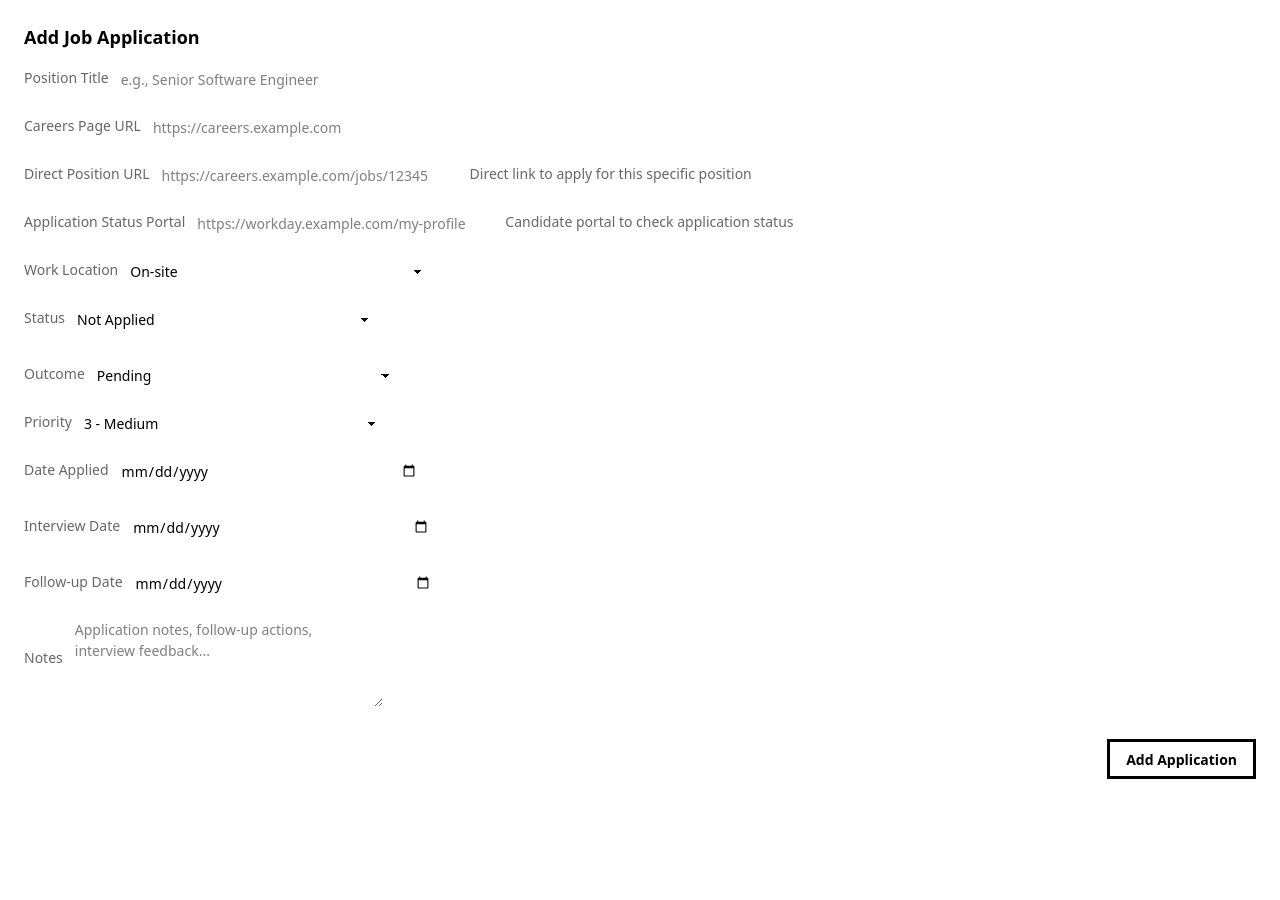
Test: ApplicationForm › Loading State › shows loading state during submission
Click the button "Add Application" at (1182, 759), box [1107,739,1256,779]
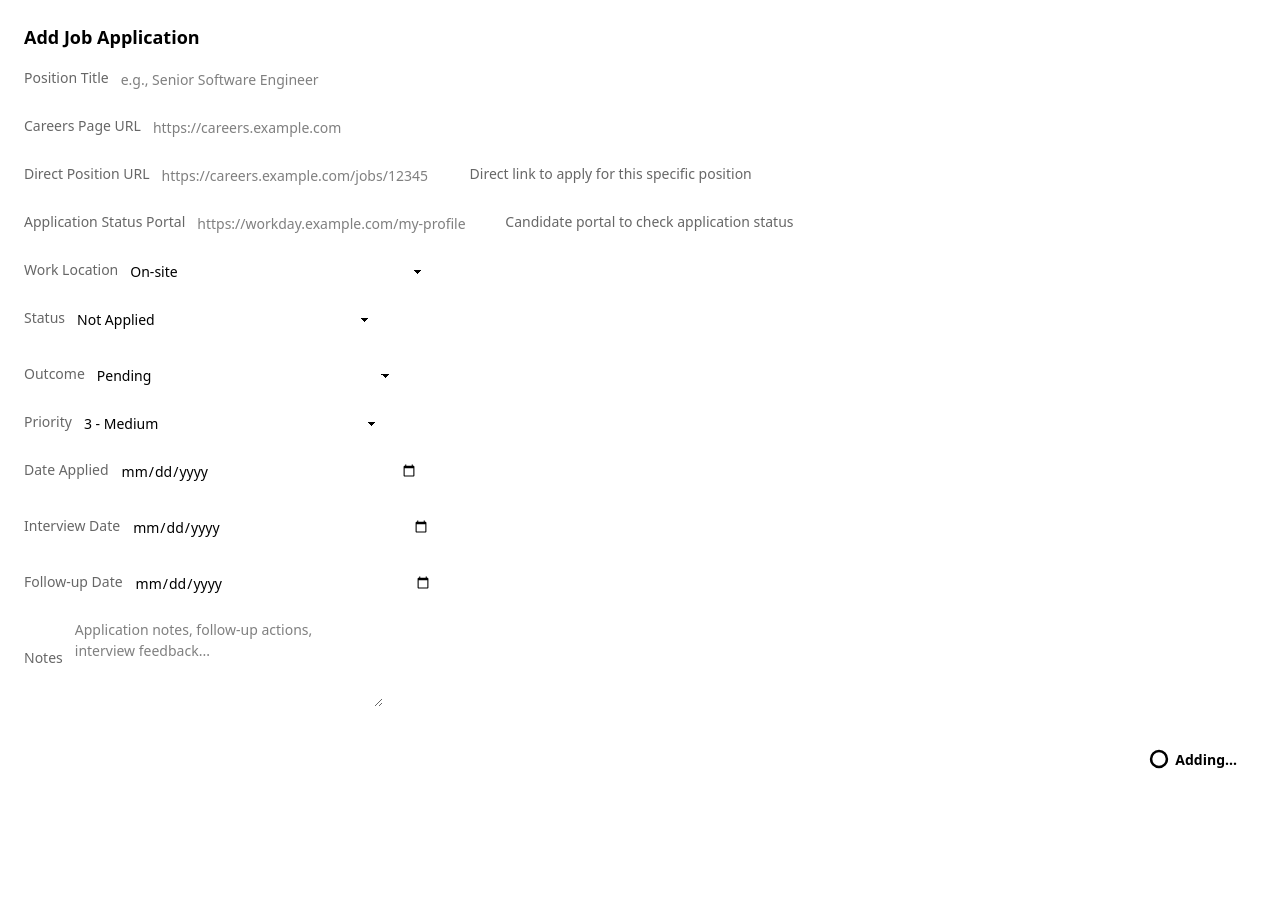
Expected: the button "Adding..." is disabled, [1130,739,1256,779]
